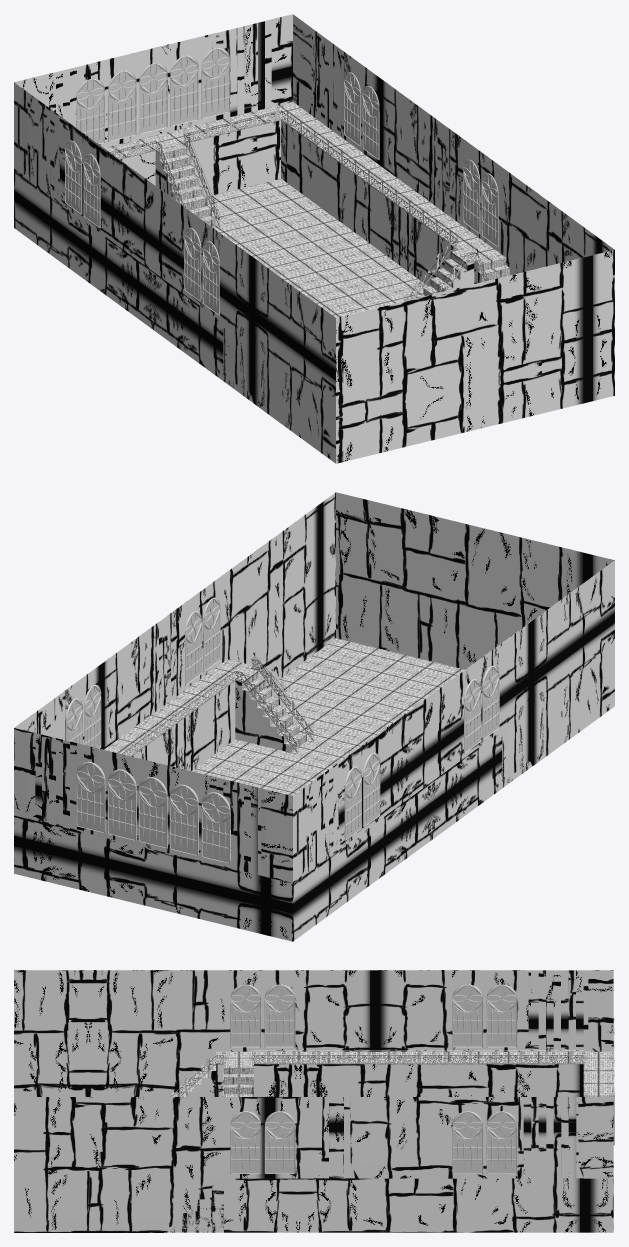
The model's file is mapBase2.fbx.
The picture shows the model from 3 angles, top to bottom: view 1: azimuth 30°, elevation 25°; view 2: azimuth 150°, elevation 25°; view 3: azimuth 270°, elevation 25°; orthographic projection. The views are drawn at different scales.
Visible parts, largest first — view 1: MapBase, Window, Window.002, Window.003, Window.001, Window.004, Window.010, Window.006, Window.008, Window.012, Window.005, Window.009 (+2 smaller); view 2: MapBase, Window.004, Window.002, Window, Window.001, Window.003, Window.010, Window.012, Window.005, Window.006, Window.009, Window.011 (+2 smaller); view 3: MapBase, Window.005, Window.009, Window.010, Window.006, Window.007, Window.008, Window.011, Window.012.
Part boxes in pixels (x1,y1,x2,y2): MapBase: (14,14,614,463); Window: (139,63,167,134); Window.002: (201,48,229,118); Window.003: (108,70,136,141); Window.001: (170,55,198,126); Window.004: (76,78,104,143); Window.010: (202,241,219,315); Window.006: (83,153,100,228); Window.008: (362,85,379,160); Window.012: (481,173,498,247); Window.005: (65,140,82,214); Window.009: (184,227,201,301); MapBase: (14,492,614,941); Window.004: (201,792,230,863); Window.002: (76,761,105,833); Window: (138,777,167,848); Window.001: (107,769,136,840); Window.003: (169,784,198,855); Window.010: (482,665,499,740); Window.012: (203,597,220,672); Window.005: (344,766,361,840); Window.006: (363,753,380,827); Window.009: (463,679,481,753); Window.011: (185,611,202,685); MapBase: (14,970,613,1232); Window.005: (486,984,517,1047); Window.009: (264,984,295,1047); Window.010: (230,984,261,1047); Window.006: (452,984,483,1047); Window.007: (486,1111,517,1173); Window.008: (452,1111,483,1173); Window.011: (264,1111,295,1173); Window.012: (230,1111,261,1173).
Size of the model in its own units: 2012 by 1001 by 4010.
Materials: 5 (3 with a texture image).
